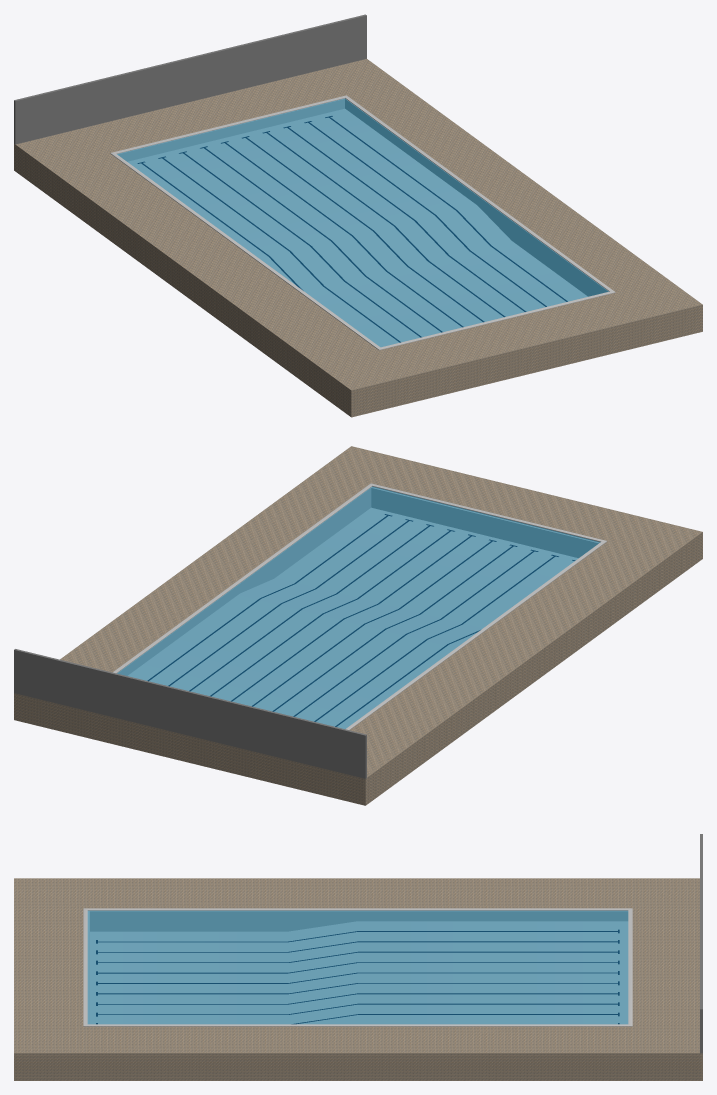
Rendered from Olympic Pool.fbx.
3 renders of one model, top to bottom at view 1: azimuth 30°, elevation 25°; view 2: azimuth 150°, elevation 25°; view 3: azimuth 270°, elevation 25°, orthographic. The views are drawn at different scales.
Visible parts, largest first — view 1: Floor, Plane004, Gutter, Wall, Shape001, Rectangle001; view 2: Floor, Plane004, Gutter, Wall, Shape001, Rectangle001; view 3: Floor, Plane004, Gutter, Shape001, Rectangle001, Wall.
Part boxes in pixels (x1,y1,x2,y2): Floor: (14, 59, 702, 417); Plane004: (117, 98, 608, 346); Gutter: (117, 98, 608, 346); Wall: (14, 14, 366, 144); Shape001: (137, 116, 567, 342); Rectangle001: (110, 95, 615, 350); Floor: (14, 446, 702, 805); Plane004: (117, 486, 600, 728); Gutter: (117, 486, 600, 728); Wall: (14, 649, 366, 778); Shape001: (147, 514, 575, 726); Rectangle001: (113, 483, 606, 730); Floor: (14, 878, 702, 1080); Plane004: (87, 910, 628, 1024); Gutter: (87, 910, 628, 1024); Shape001: (96, 929, 619, 1024); Rectangle001: (83, 908, 632, 1026); Wall: (700, 834, 702, 1053).
Size of the model in its own units: 38.32 by 7.32 by 63.69.
